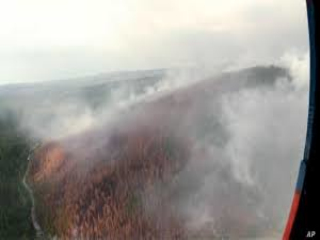smoke: (196, 39, 302, 189), (14, 82, 183, 159)
